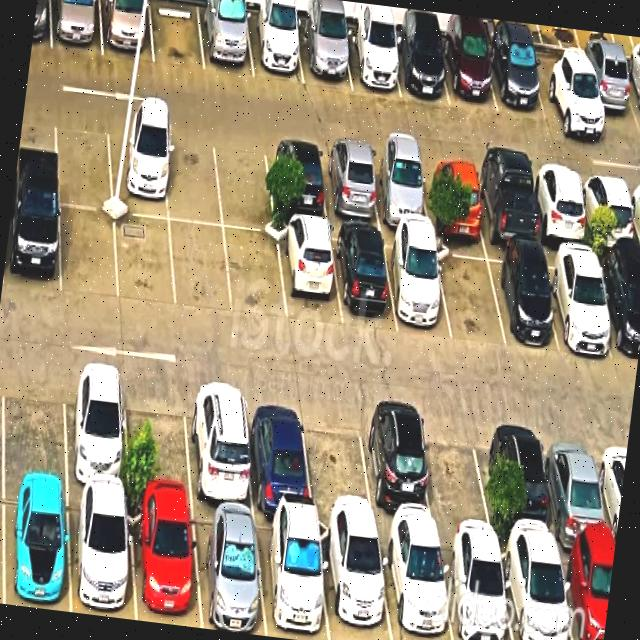empty: (422, 409, 494, 540), (302, 398, 375, 525), (125, 372, 193, 503), (3, 358, 66, 484), (434, 242, 505, 345), (213, 132, 274, 232), (169, 221, 232, 313), (115, 213, 175, 309), (54, 111, 112, 209), (164, 126, 222, 224), (224, 229, 286, 320), (60, 205, 118, 299), (149, 0, 204, 70)
occupied: (359, 404, 437, 532), (191, 505, 266, 636), (128, 497, 201, 628), (255, 513, 329, 640), (68, 488, 136, 620), (543, 422, 613, 550), (318, 520, 392, 640), (244, 388, 313, 515), (186, 380, 253, 510), (3, 482, 69, 612), (492, 416, 558, 545), (64, 363, 128, 494), (378, 530, 453, 640), (439, 534, 513, 640), (542, 248, 614, 356), (485, 246, 558, 347), (382, 233, 451, 339), (499, 540, 572, 640), (331, 227, 397, 329), (277, 221, 341, 325), (107, 119, 168, 218), (3, 194, 60, 294), (473, 161, 539, 246), (558, 545, 614, 640), (573, 51, 639, 131), (421, 156, 485, 238), (265, 139, 328, 221), (368, 149, 431, 229), (595, 253, 640, 365), (319, 144, 381, 225), (529, 47, 593, 125), (579, 171, 638, 252), (530, 167, 590, 246), (486, 39, 545, 119), (440, 34, 497, 111), (245, 10, 304, 83), (390, 32, 449, 104), (342, 26, 400, 97), (198, 3, 253, 77), (297, 20, 351, 88), (100, 0, 153, 61), (50, 0, 102, 55), (621, 59, 640, 130)
